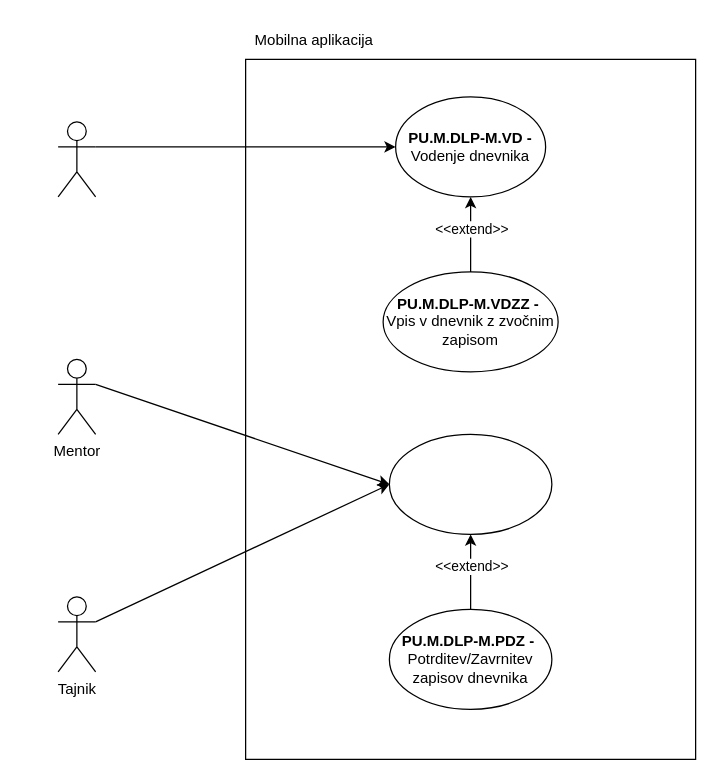
The diagram is 718 pixels wide and 781 high, and some of its shapes have lost their labels. The shapes that lost their labels are listed below. From the top down, each one's box as (x1, y1, x2, y2) in pixels, then its label:
(57, 121, 96, 197): Lovski pripravnik
(388, 433, 552, 534): PU.M.DLP-M.PD - Pregled dnevnika
